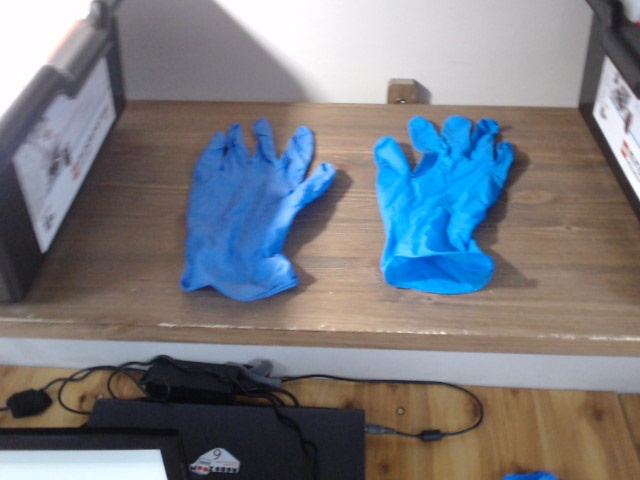medical_glove: (180, 119, 335, 297), (373, 115, 514, 293)
